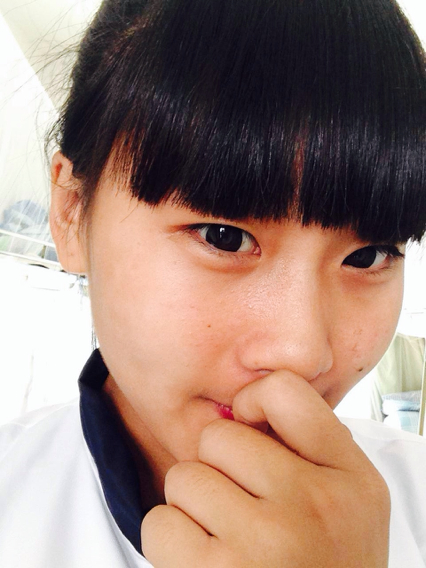face: (96, 123, 421, 473)
